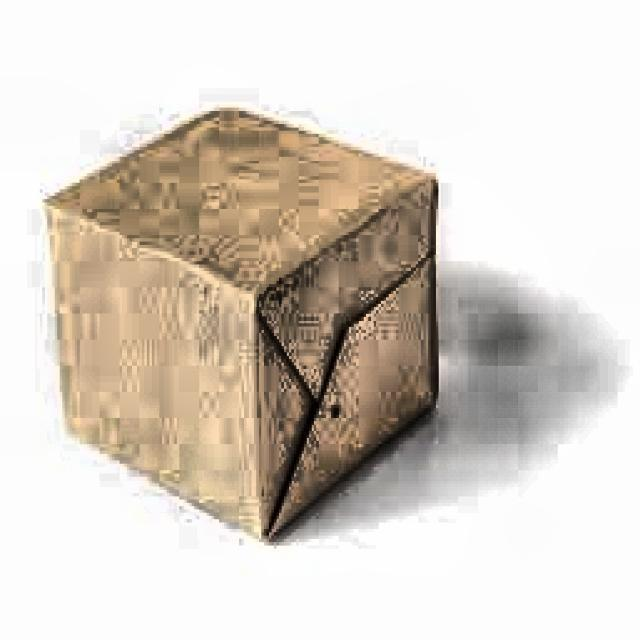cardboard: (39, 101, 438, 542)
